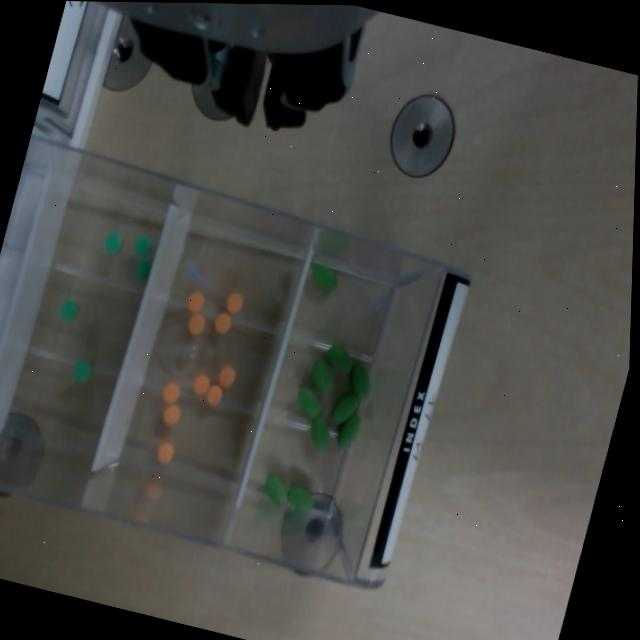famodine: (101, 232, 124, 257), (56, 299, 79, 323), (71, 359, 91, 385), (132, 257, 151, 282), (131, 235, 152, 256)
otillen_tab: (259, 473, 293, 510), (344, 362, 376, 401), (307, 357, 340, 393), (330, 391, 360, 430), (306, 413, 334, 452), (293, 385, 324, 420), (322, 344, 354, 377), (335, 413, 361, 451), (285, 485, 316, 512), (308, 266, 339, 292)
samsung_octylonium_tab: (154, 440, 176, 466), (216, 365, 237, 390), (186, 311, 207, 336), (160, 404, 181, 428), (159, 381, 179, 404), (204, 383, 224, 406), (191, 374, 210, 396), (213, 312, 232, 334), (185, 291, 203, 313), (225, 292, 242, 314)
